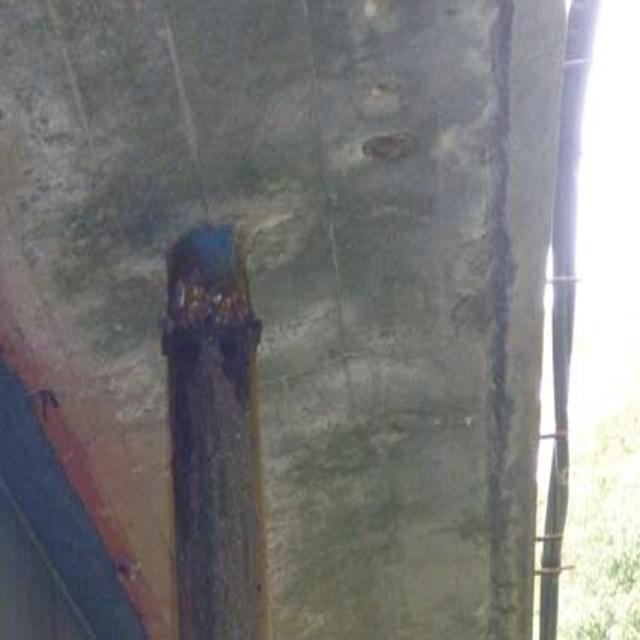corrosion: (153, 224, 288, 640)
